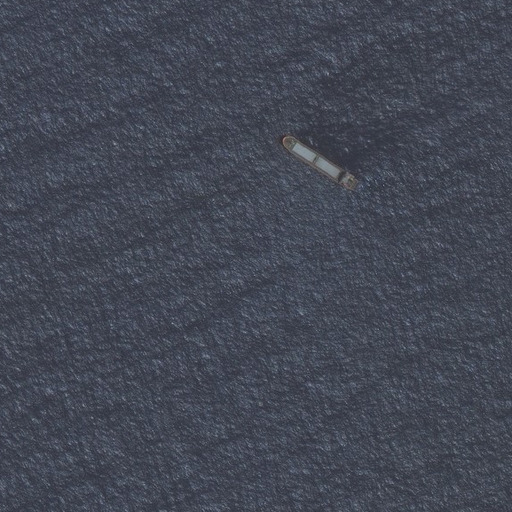ship: (278, 132, 364, 197)
